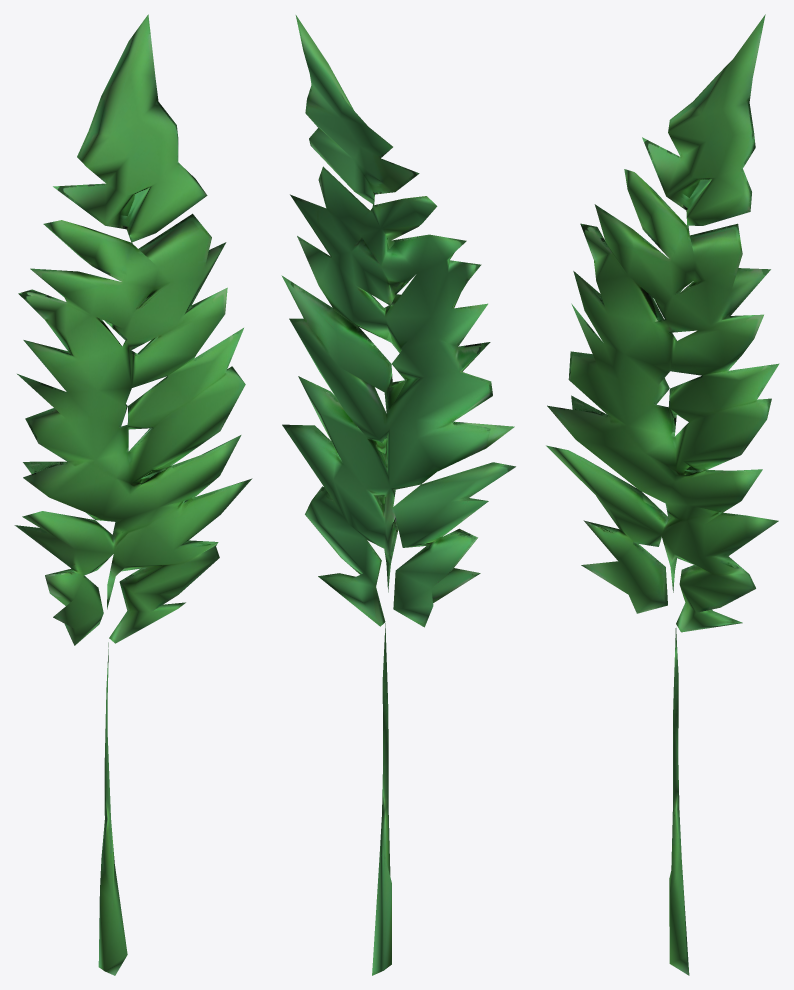
Rendered from fern-frond.glb.
The picture shows the model from 3 angles, left to right: view 1: azimuth 30°, elevation 25°; view 2: azimuth 150°, elevation 25°; view 3: azimuth 330°, elevation 25°; orthographic projection. The views are drawn at different scales.
Bounding box in the file's own units: 0.5177 × 2.02 × 0.2208.
Materials: 1 (1 with a texture image).
